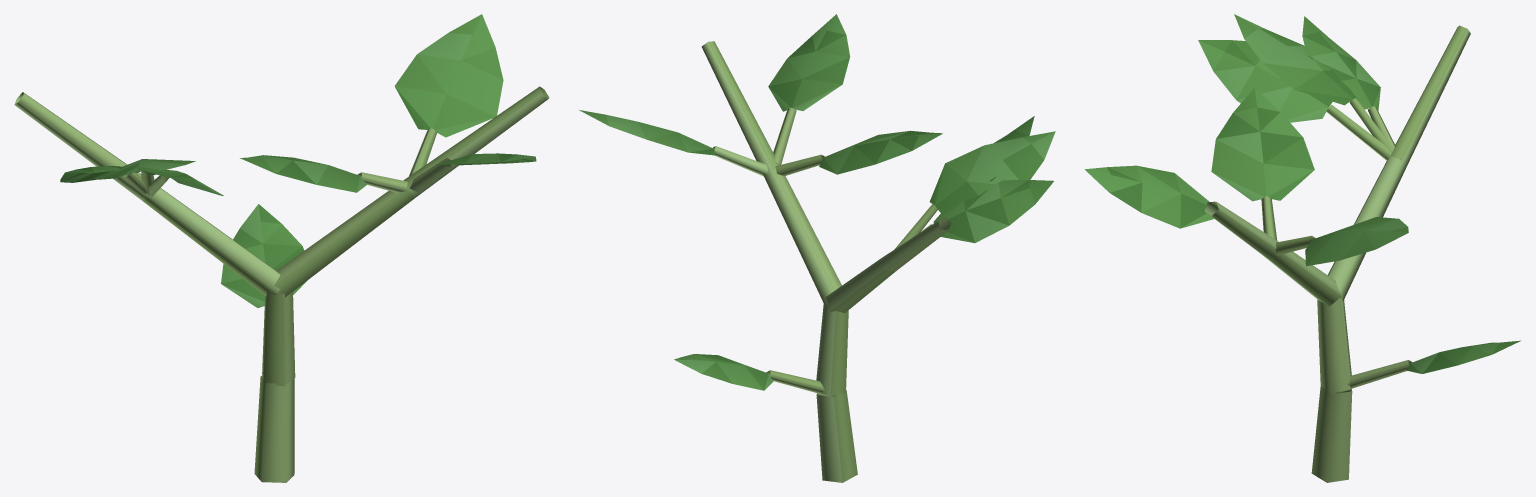
Rendered from poivron_jeune.glb.
The picture shows the model from 3 angles, left to right: view 1: azimuth 30°, elevation 25°; view 2: azimuth 150°, elevation 25°; view 3: azimuth 270°, elevation 25°; orthographic projection. The views are drawn at different scales.
Visible parts, largest first — view 1: Poivron_Tiges, Poivron_Feuilles; view 2: Poivron_Feuilles, Poivron_Tiges; view 3: Poivron_Feuilles, Poivron_Tiges.
Boxes of the visible parts, x1=… form: Poivron_Tiges: x1=14, y1=86, x2=549, y2=482; Poivron_Feuilles: x1=60, y1=14, x2=536, y2=307; Poivron_Feuilles: x1=579, y1=14, x2=1055, y2=390; Poivron_Tiges: x1=701, y1=41, x2=951, y2=482; Poivron_Feuilles: x1=1084, y1=14, x2=1520, y2=373; Poivron_Tiges: x1=1204, y1=25, x2=1470, y2=482.
Bounding box in the file's own units: 0.2588 × 0.2045 × 0.2172.
